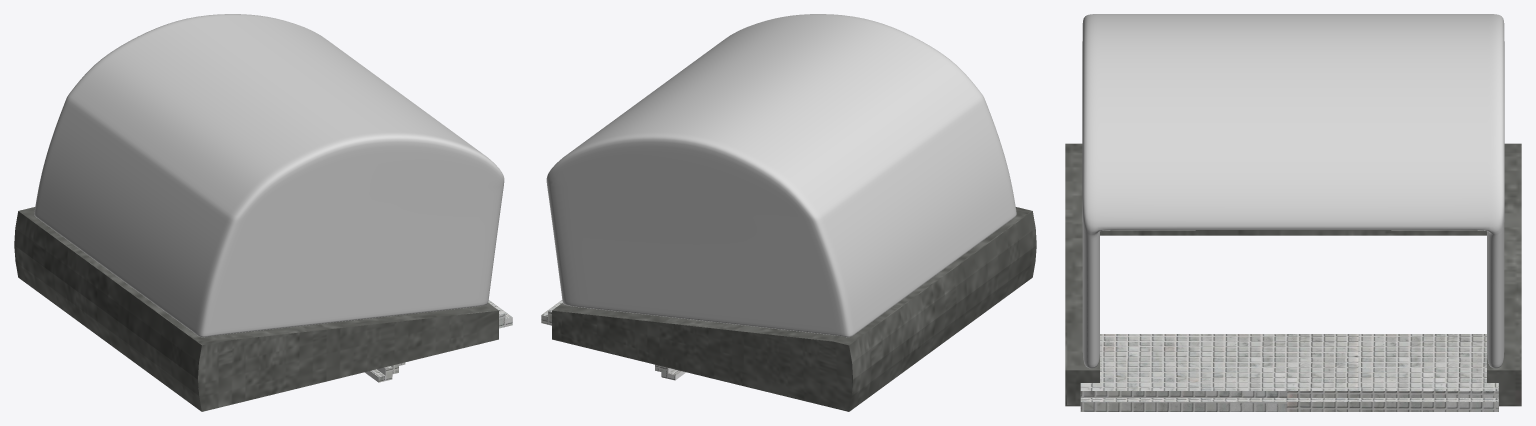
File: Metro01fbx.fbx
The picture shows the model from 3 angles, left to right: view 1: azimuth 30°, elevation 25°; view 2: azimuth 150°, elevation 25°; view 3: azimuth 270°, elevation 25°; orthographic projection. The views are drawn at different scales.
Parts seen in each view (by area): view 1: CupulaMetro, BaseMetro, Piso Metro; view 2: CupulaMetro, BaseMetro, Piso Metro; view 3: CupulaMetro, Piso Metro, BaseMetro.
Part boxes in pixels (<box>): CupulaMetro: <box>34,14,504,337</box>; BaseMetro: <box>14,207,498,411</box>; Piso Metro: <box>365,300,512,382</box>; CupulaMetro: <box>546,14,1016,337</box>; BaseMetro: <box>552,207,1036,411</box>; Piso Metro: <box>541,300,685,380</box>; CupulaMetro: <box>1082,14,1504,368</box>; Piso Metro: <box>1080,334,1498,411</box>; BaseMetro: <box>1065,143,1521,406</box>.
Size of the model in its own units: 942 by 693 by 934.
